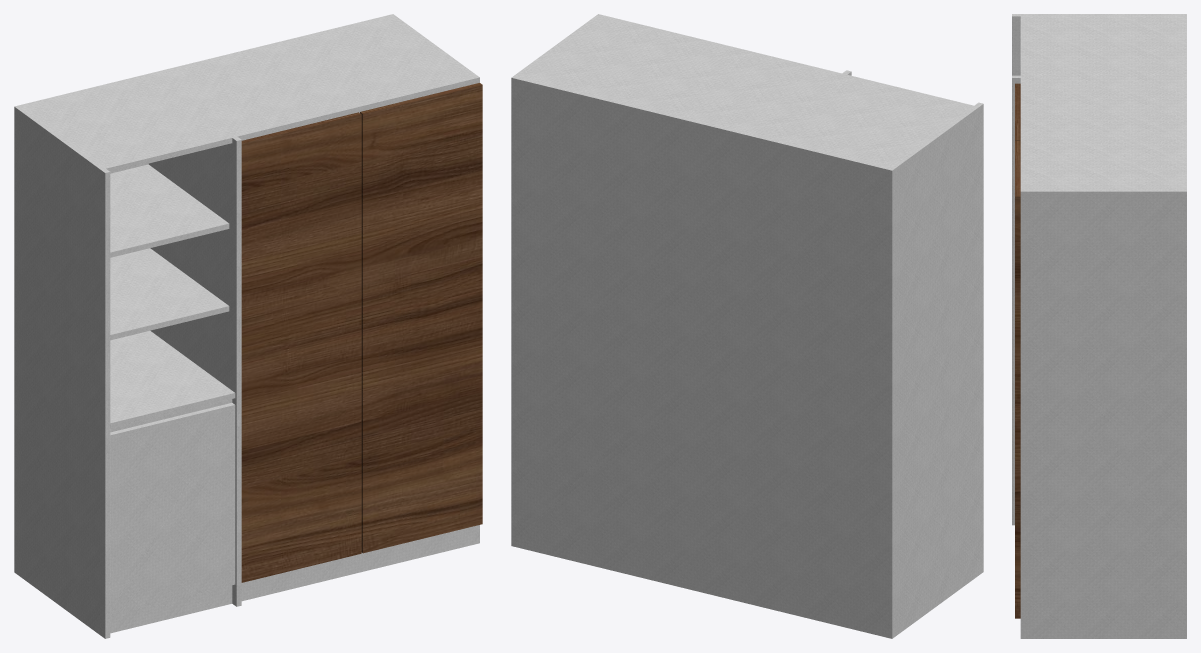
Rendered from wardrobe.glb.
The picture shows the model from 3 angles, left to right: view 1: azimuth 30°, elevation 25°; view 2: azimuth 150°, elevation 25°; view 3: azimuth 270°, elevation 25°; orthographic projection. The views are drawn at different scales.
Visible parts, largest first — view 1: Material2 (×2); view 2: Material2; view 3: Material2 (×2).
Part boxes in pixels (<box>): Material2 (×2): <box>14,14,482,638</box>; Material2: <box>511,14,983,638</box>; Material2 (×2): <box>1012,14,1186,638</box>.
Bounding box in the file's own units: 58.66 × 68.9 × 24.41.
7 materials, 5 textured.
